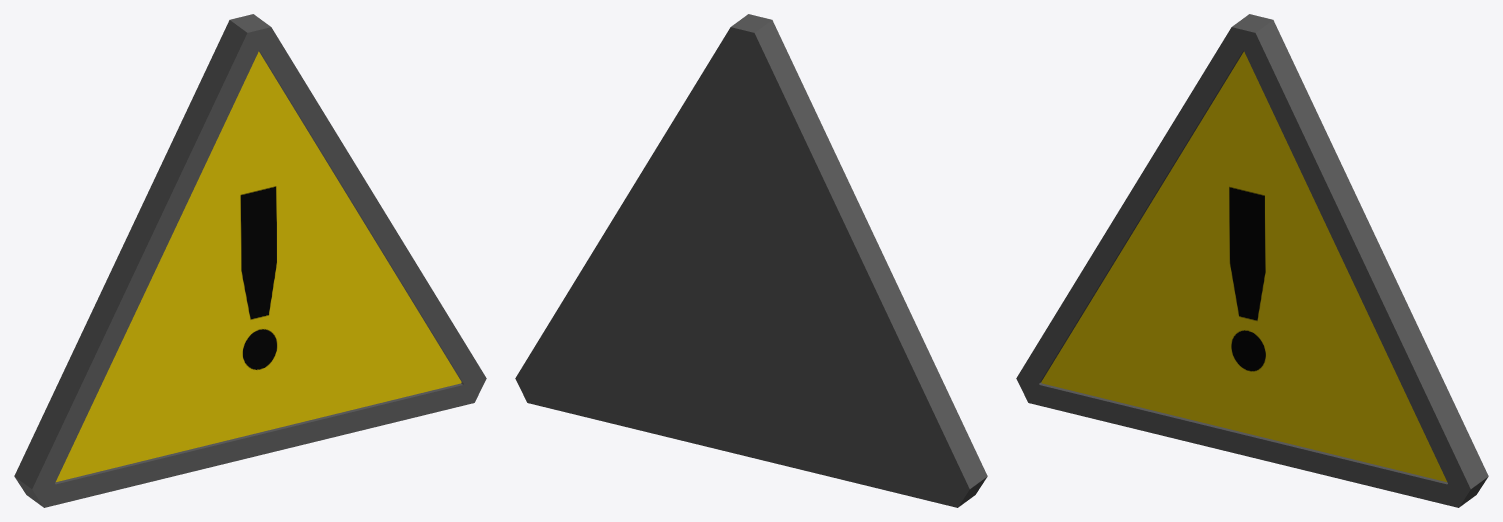
File: caution.fbx
3 views of the same model, side by side, from view 1: azimuth 30°, elevation 25°; view 2: azimuth 150°, elevation 25°; view 3: azimuth 330°, elevation 25° (orthographic).
Visible parts, largest first — view 1: group1; view 2: group1; view 3: group1.
Part boxes in pixels (<box>): group1: <box>14,14,486,507</box>; group1: <box>515,14,987,507</box>; group1: <box>1016,14,1488,507</box>.
Size of the model in its own units: 27.57 by 24.66 by 1.88.
